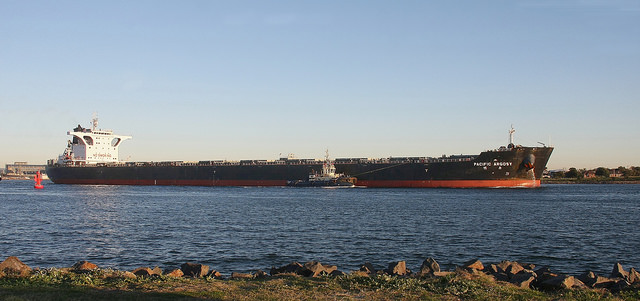bulk carrier: (48, 118, 553, 189)
tug_boat: (290, 152, 355, 186)
